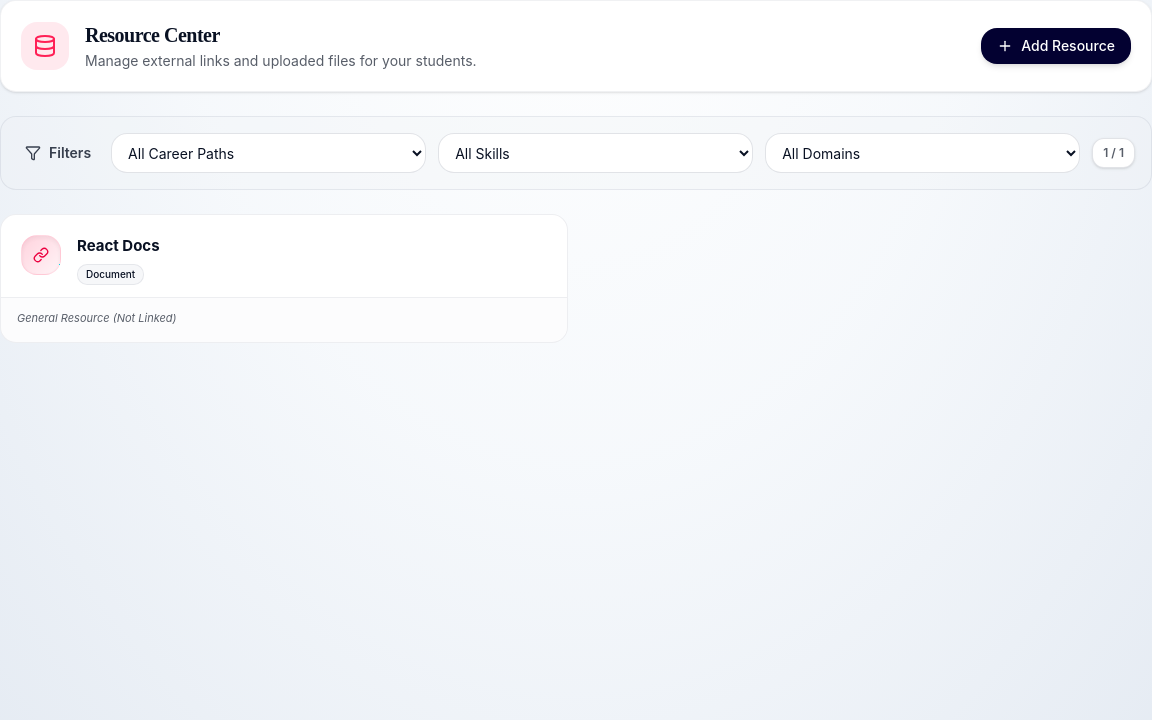
Test: ResourcesManager › opens 'New Resource' dialog
The width and height of the screenshot is (1152, 720).
Click the button "Add Resource" at point(1056, 46), box [981,28,1131,64]
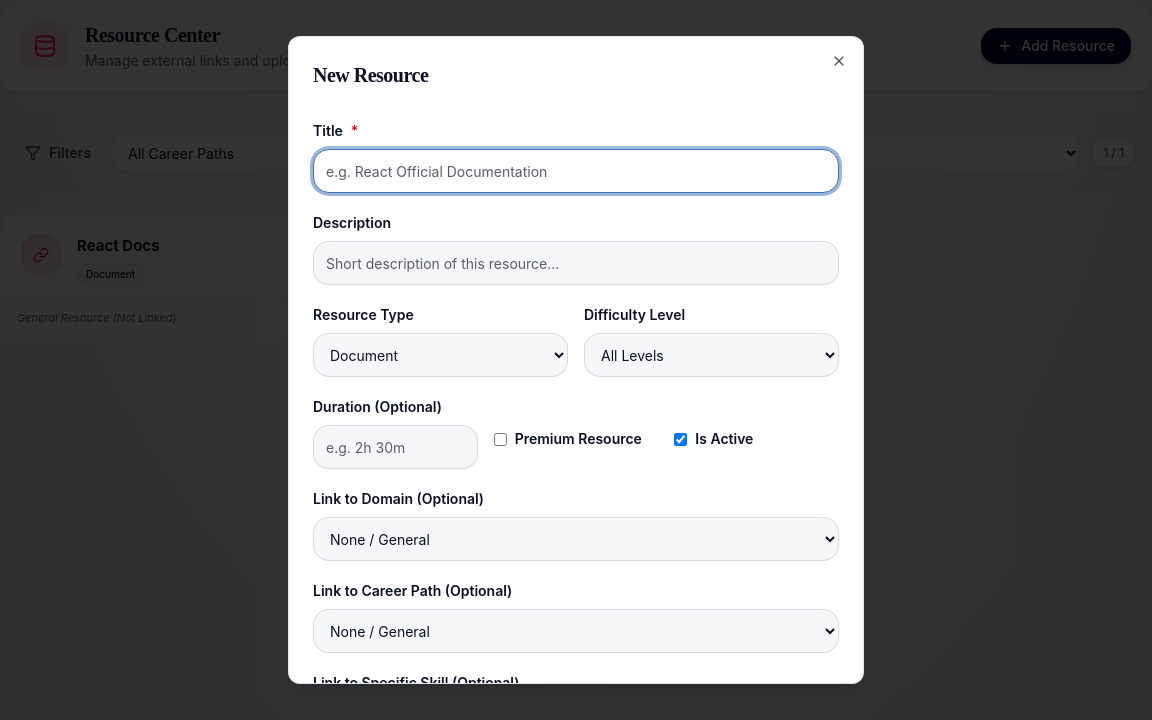
Now the heading "New Resource" is shown, box [313,64,428,86]
Now the field with placeholder "e.g. React Official Documentation" is shown, box [313,149,839,193]
